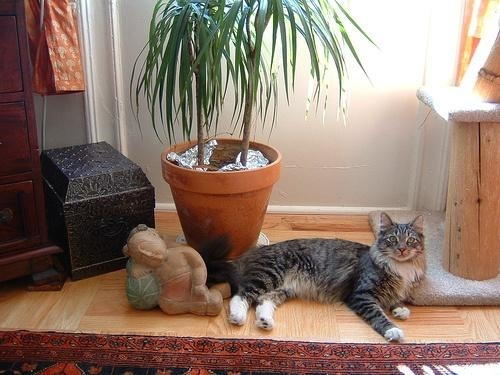cat: (226, 213, 429, 343)
pottedplant: (132, 1, 376, 280)
